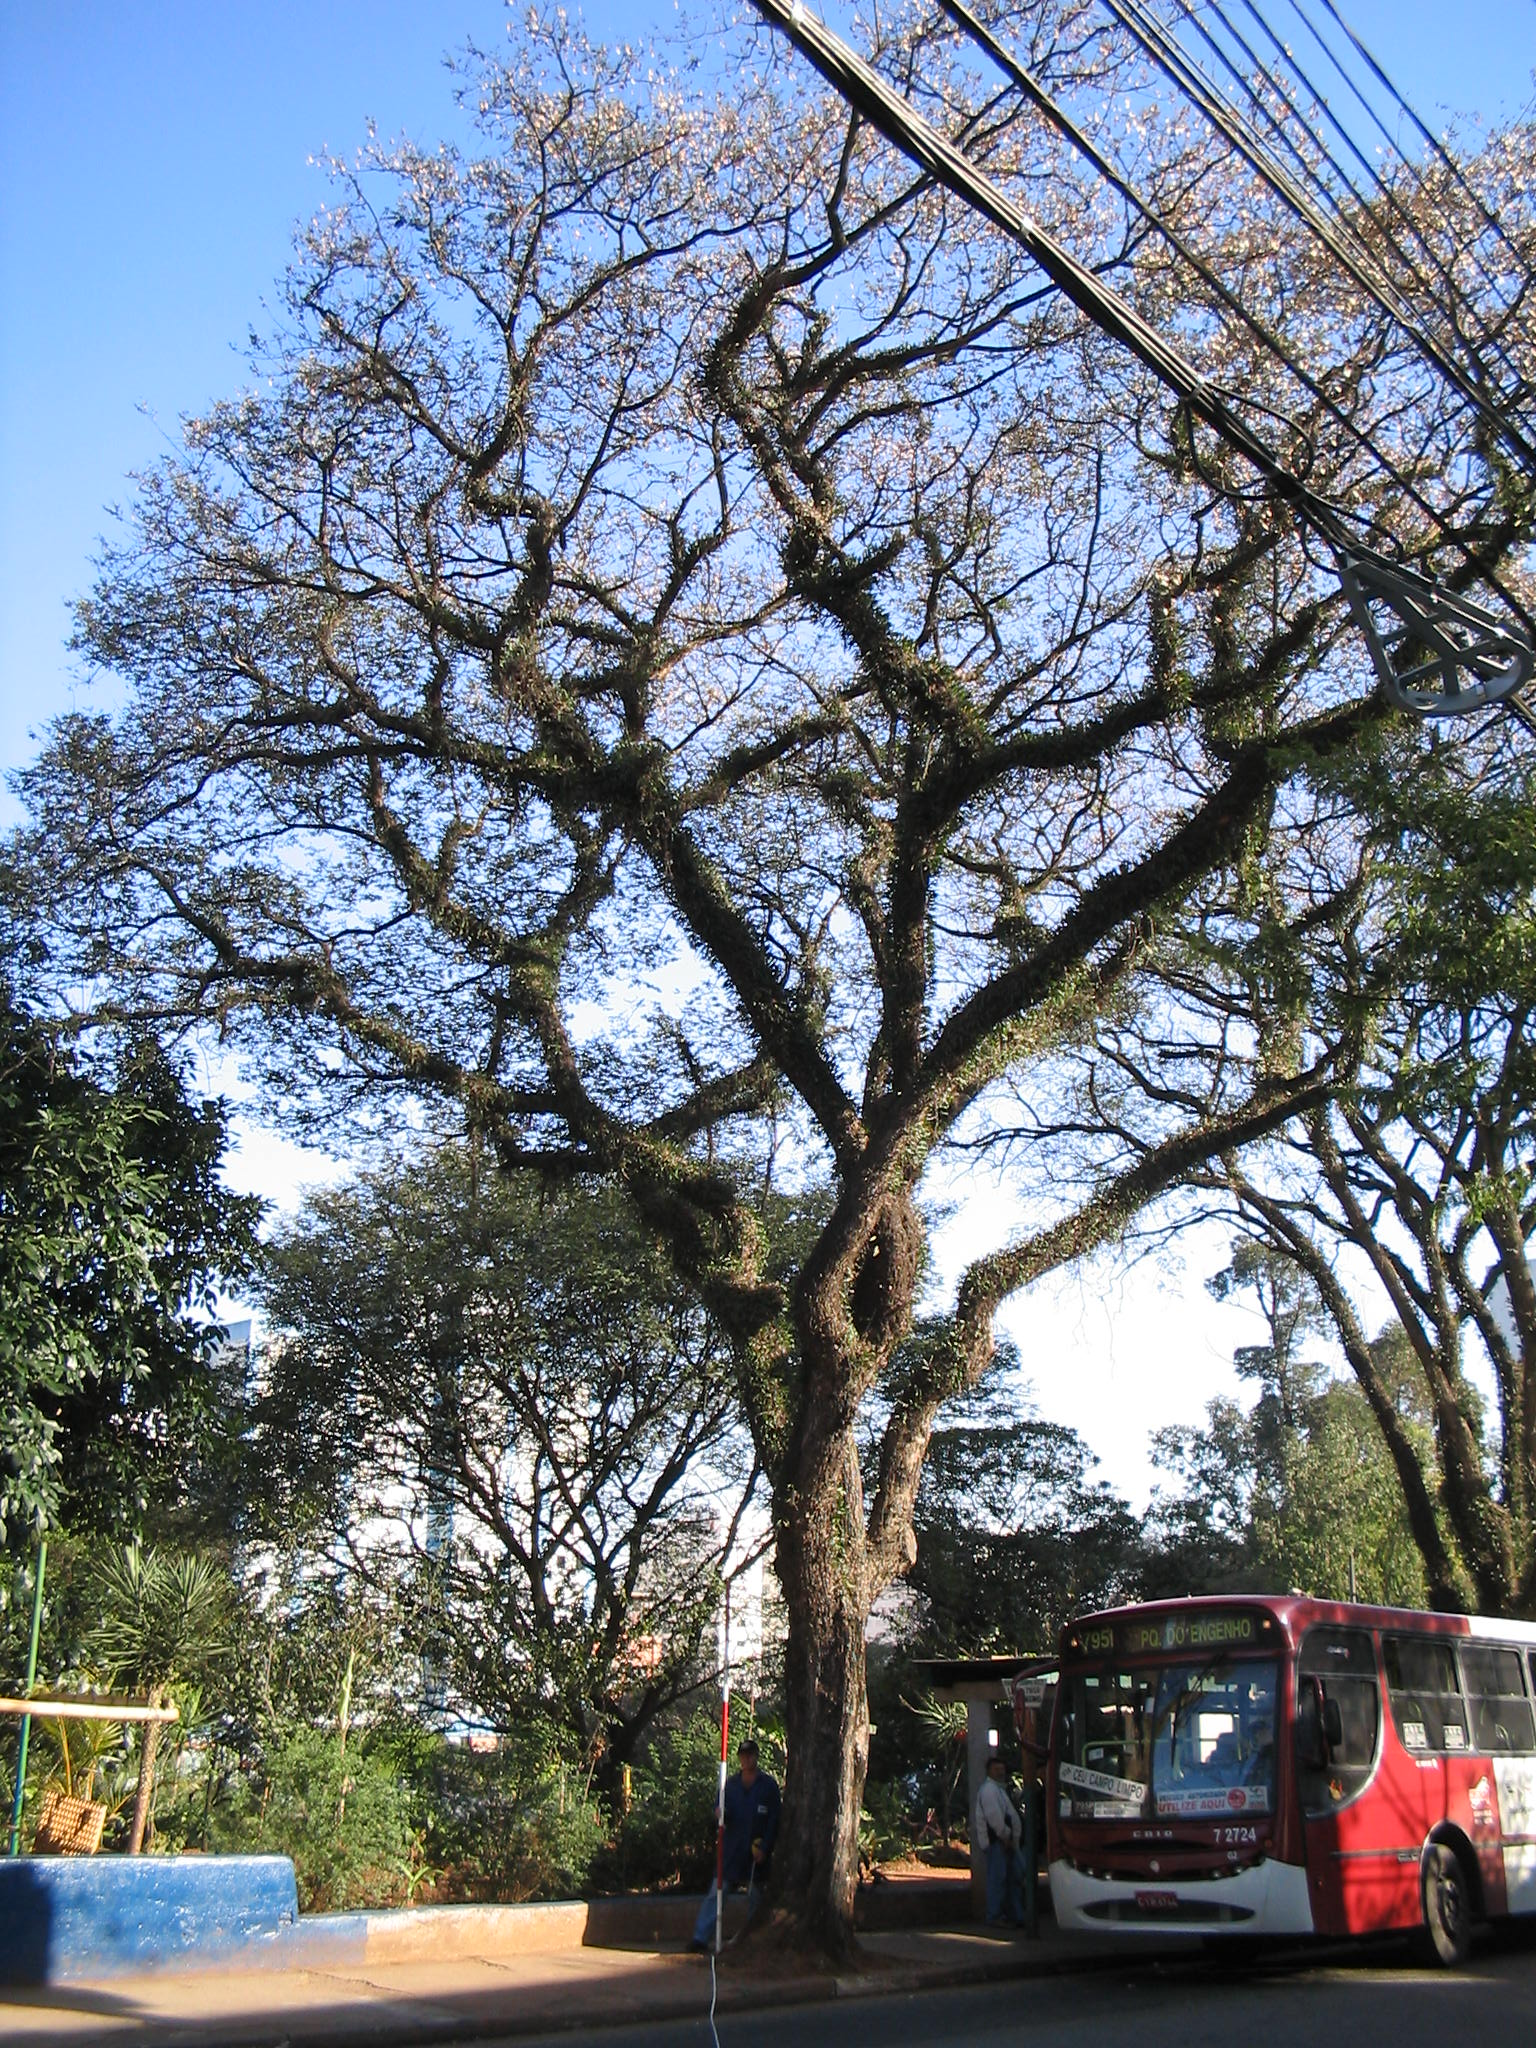stem: (741, 1546, 950, 1958)
stick: (687, 1574, 757, 1954)
tree: (10, 3, 1536, 1966), (160, 1140, 845, 1829)
